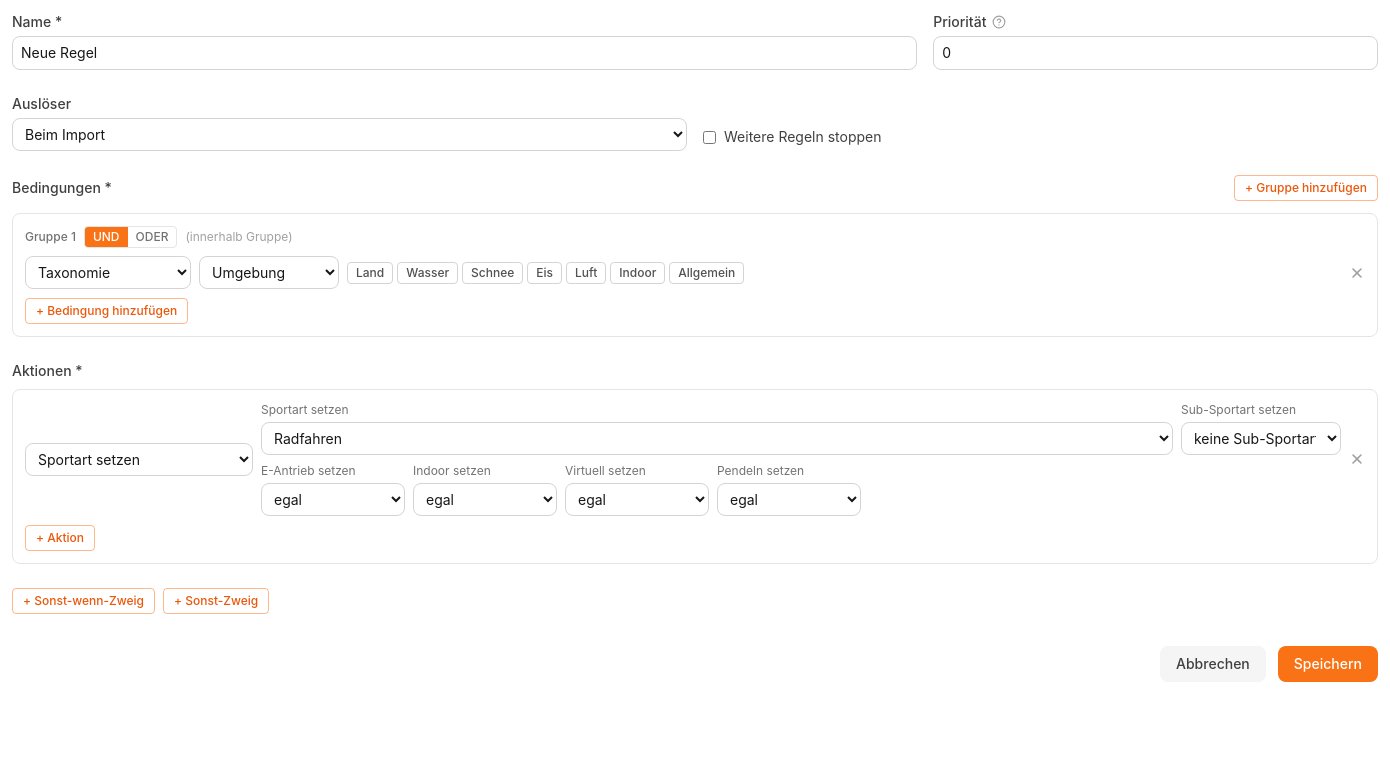
Scenario: RuleEditor sport tuple controls › blocks already-empty trait conditions before submit
Click the button "Speichern".
click(1328, 664)  # box [1278,646,1378,682]
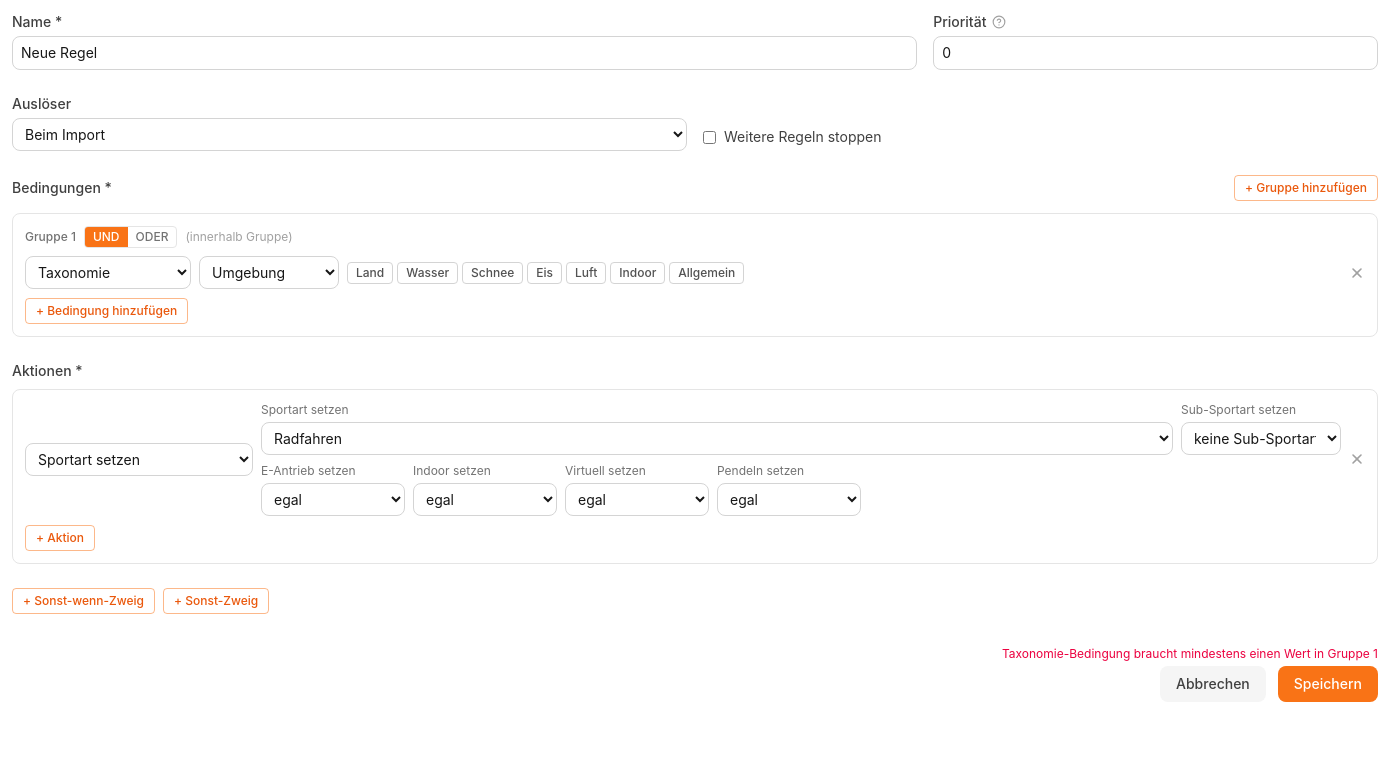
Now the message shows "Taxonomie-Bedingung braucht mindestens einen Wert", box [1002,646,1378,661]
